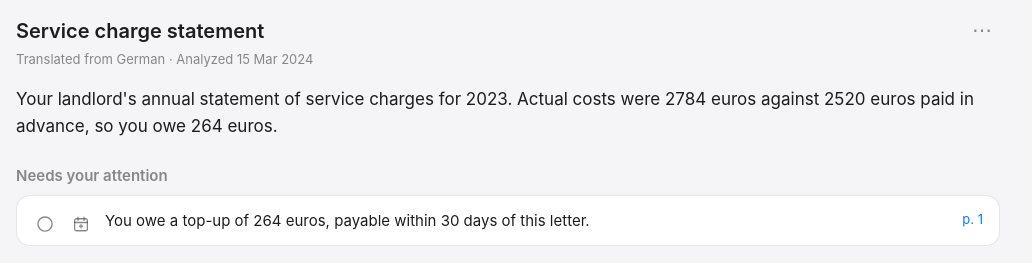
ExtractionPanel timing chips and v1 note (issue #118) › notes in the ⋯ menu that a schemaVersion 1 Extraction is an earlier format
Click the button named "More actions": point(982, 30) [964,16,1000,44]
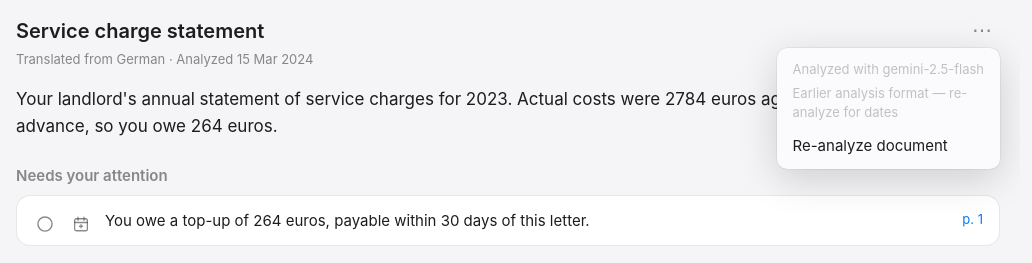
Result: the text "Earlier analysis format — re-analyze for dates" is shown at [792,84,967,120]
